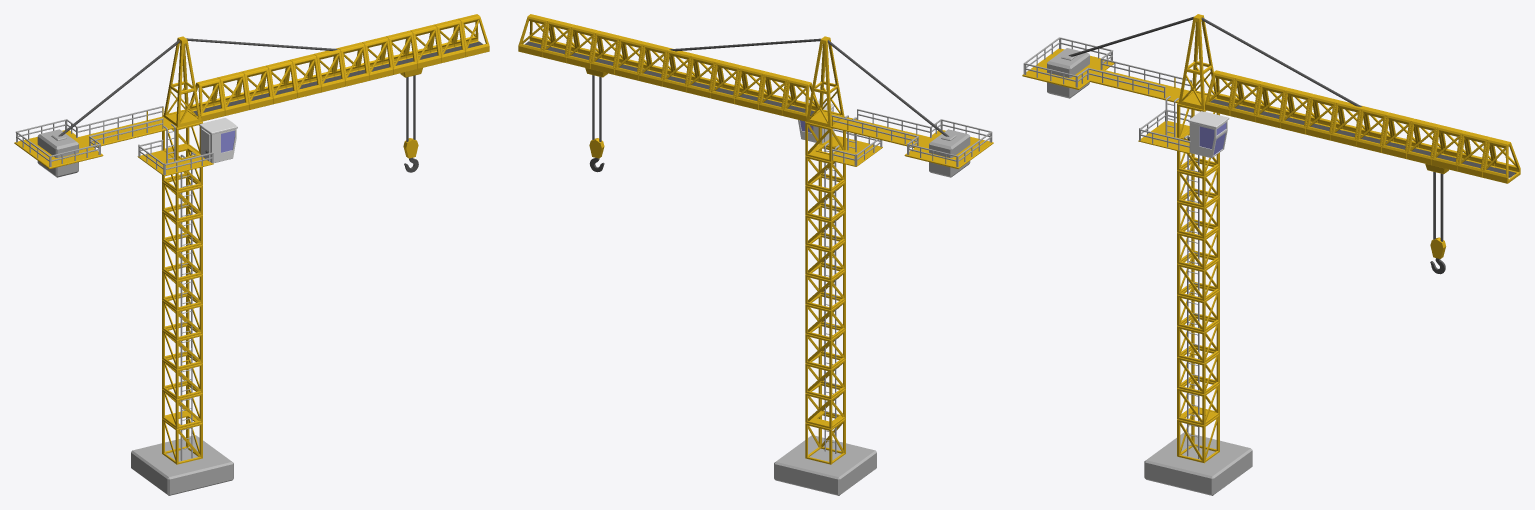
Rendered from Crane.fbx.
3 renders of one model, left to right at view 1: azimuth 30°, elevation 25°; view 2: azimuth 150°, elevation 25°; view 3: azimuth 330°, elevation 25°, orthographic. The views are drawn at different scales.
Visible parts, largest first — view 1: Crane.001; view 2: Crane.001; view 3: Crane.001.
Part boxes in pixels (x1=…): Crane.001: x1=14, y1=14, x2=489, y2=495; Crane.001: x1=518, y1=14, x2=993, y2=495; Crane.001: x1=1022, y1=14, x2=1520, y2=495.
Bounding box in the file's own units: 3981 × 3674 × 592.
